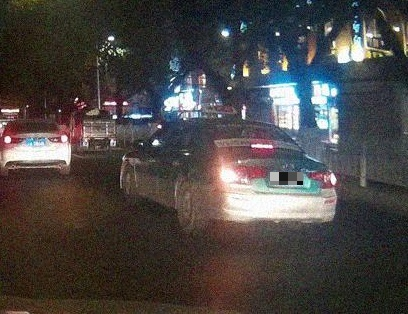L_light: (219, 165, 265, 182), (4, 135, 23, 143)
R_light: (308, 169, 335, 188), (48, 135, 68, 143)
T_light: (250, 143, 273, 150), (29, 122, 43, 124)
night-left: (203, 120, 336, 238)
night-no: (2, 119, 71, 175)
plate_1: (270, 172, 303, 185)
